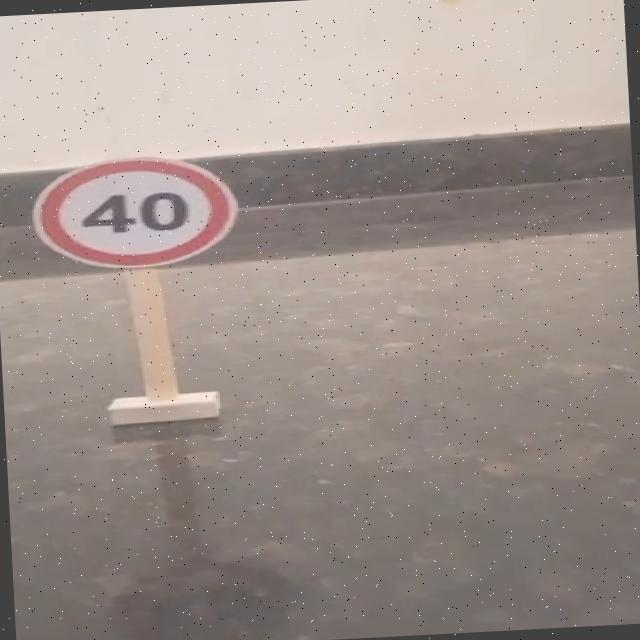Speed40: (24, 147, 244, 275)
